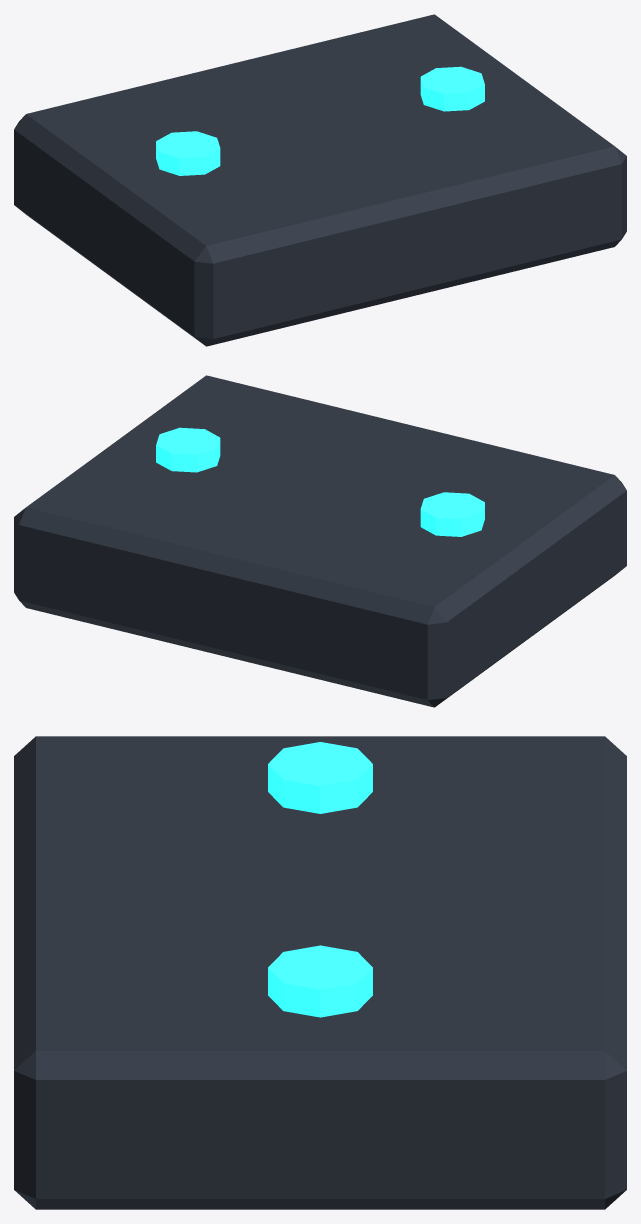
Rendered from street_035_seed11.glb.
The picture shows the model from 3 angles, top to bottom: view 1: azimuth 30°, elevation 25°; view 2: azimuth 150°, elevation 25°; view 3: azimuth 270°, elevation 25°; orthographic projection. The views are drawn at different scales.
Visible parts, largest first — view 1: street_035_seed11; view 2: street_035_seed11; view 3: street_035_seed11.
Part boxes in pixels (left/top/right/bottom): street_035_seed11: left=14, top=14, right=626, bottom=346; street_035_seed11: left=14, top=375, right=626, bottom=707; street_035_seed11: left=14, top=736, right=626, bottom=1209.
Bounding box in the file's own units: 1.8 × 0.47 × 1.4.
